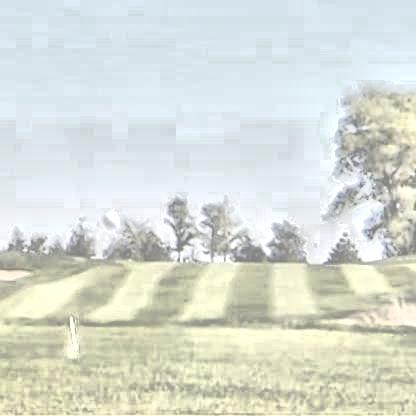golfball: (99, 207, 117, 227)
